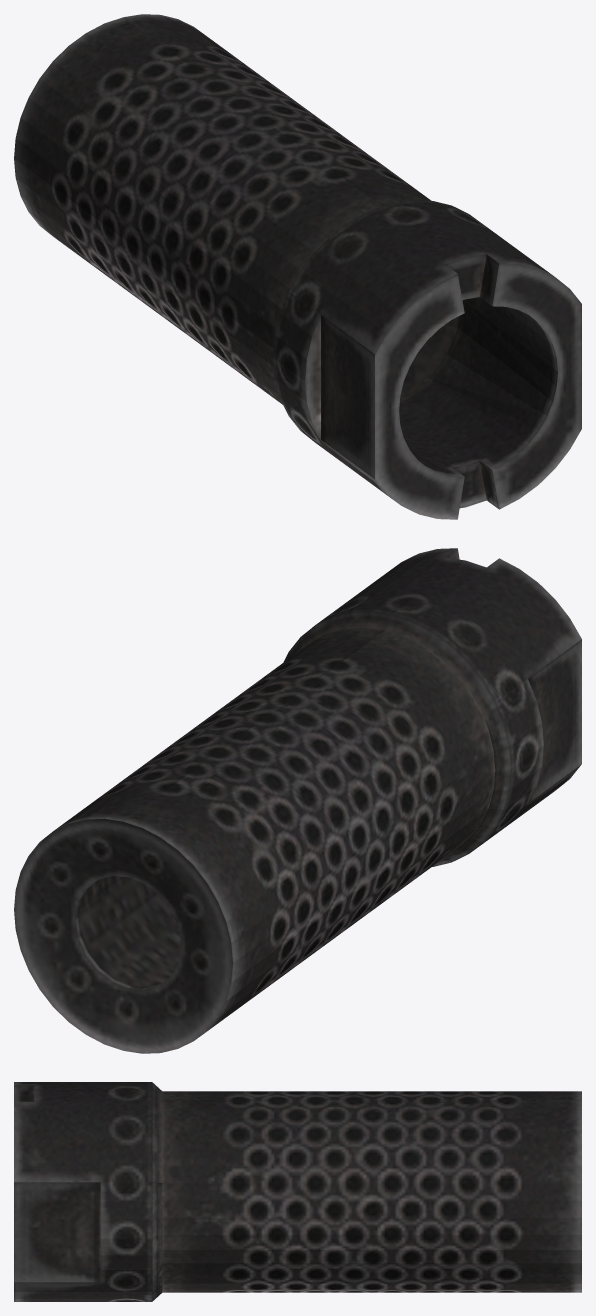
3 renders of one model, top to bottom at view 1: azimuth 30°, elevation 25°; view 2: azimuth 150°, elevation 25°; view 3: azimuth 270°, elevation 25°, orthographic. The views are drawn at different scales.
Parts seen in each view (by area): view 1: TW_5a9ea27ca2750c00137fa672_PZ_Import; view 2: TW_5a9ea27ca2750c00137fa672_PZ_Import; view 3: TW_5a9ea27ca2750c00137fa672_PZ_Import.
Part boxes in pixels (x1,y1,x2,y2): TW_5a9ea27ca2750c00137fa672_PZ_Import: (14, 14, 581, 519); TW_5a9ea27ca2750c00137fa672_PZ_Import: (14, 548, 581, 1053); TW_5a9ea27ca2750c00137fa672_PZ_Import: (14, 1082, 581, 1301).
Size of the model in its own units: 0.0174 by 0.0449 by 0.0174.
Materials: 1 (1 with a texture image).
